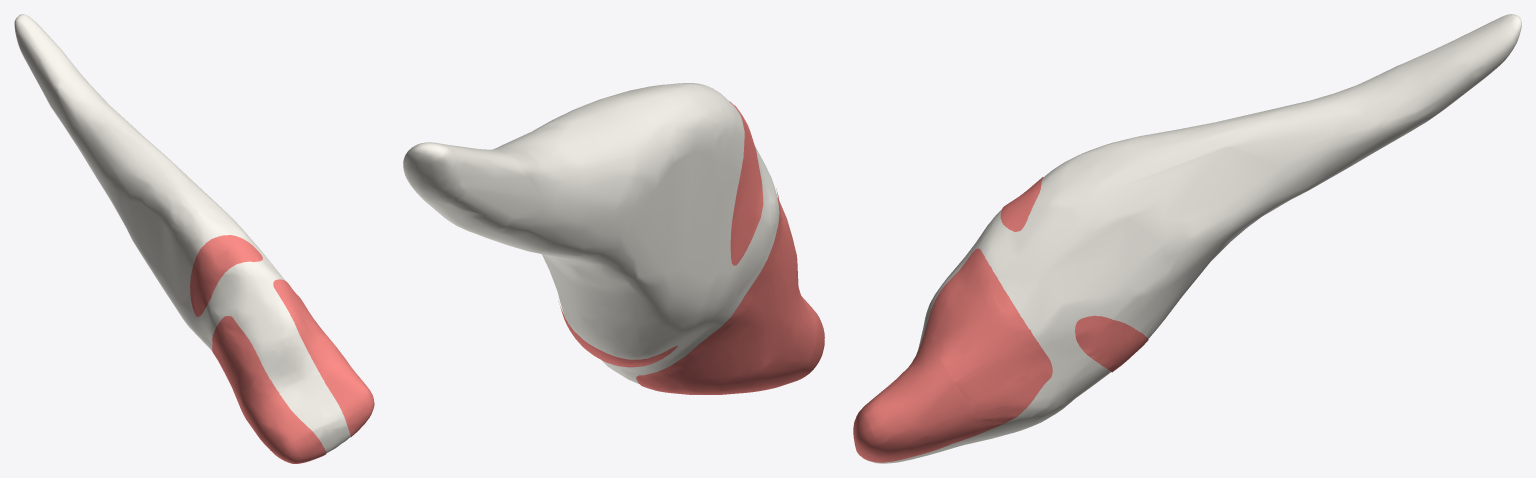
Rendered from tooth_32_FMA57141.glb.
3 views of the same model, side by side, from view 1: azimuth 30°, elevation 25°; view 2: azimuth 150°, elevation 25°; view 3: azimuth 270°, elevation 25° (orthographic). The views are drawn at different scales.
Parts seen in each view (by area): view 1: tooth_32, class4_mesial, class4_distal, class5_lingual, class3_mesial, class3_distal; view 2: tooth_32, class3_mesial, class4_mesial, class5_lingual, class5_facial; view 3: tooth_32, class4_distal, class3_distal, class5_facial, class5_lingual.
Part boxes in pixels (x1,y1,x2,y2): tooth_32: [14, 14, 350, 453]; class4_mesial: [212, 316, 326, 463]; class4_distal: [273, 279, 374, 436]; class5_lingual: [190, 235, 262, 316]; class3_mesial: [214, 323, 255, 410]; class3_distal: [280, 283, 331, 342]; tooth_32: [403, 83, 779, 383]; class3_mesial: [648, 208, 798, 394]; class4_mesial: [636, 188, 824, 394]; class5_lingual: [729, 101, 763, 265]; class5_facial: [558, 301, 677, 367]; tooth_32: [867, 14, 1521, 463]; class4_distal: [853, 248, 1052, 462]; class3_distal: [931, 258, 1042, 420]; class5_facial: [1075, 315, 1148, 372]; class5_lingual: [1000, 177, 1043, 231].
Size of the model in its own units: 7.48 by 15.94 by 23.77.
